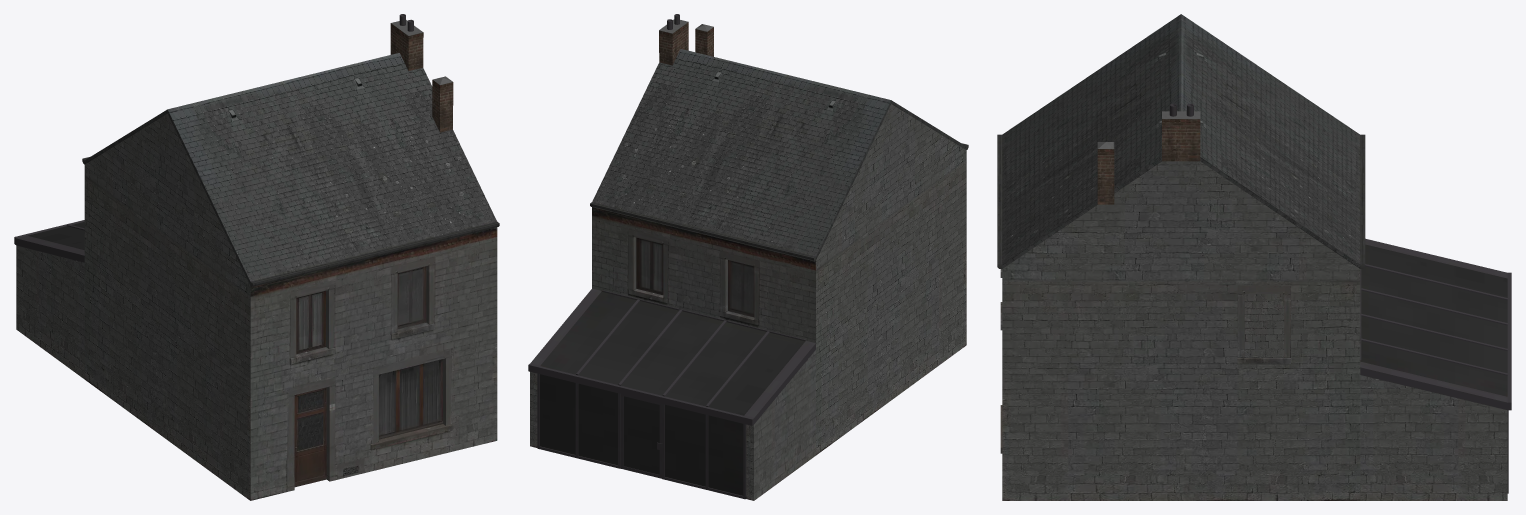
The model's file is romedenne.glb.
The picture shows the model from 3 angles, left to right: view 1: azimuth 30°, elevation 25°; view 2: azimuth 150°, elevation 25°; view 3: azimuth 270°, elevation 25°; orthographic projection. The views are drawn at different scales.
Parts seen in each view (by area): view 1: romedenne 1 updated_romedenne 1 update_0; view 2: romedenne 1 updated_romedenne 1 update_0; view 3: romedenne 1 updated_romedenne 1 update_0.
Part boxes in pixels (box(x1,y1,x2,y2)): romedenne 1 updated_romedenne 1 update_0: box(14, 14, 499, 500); romedenne 1 updated_romedenne 1 update_0: box(528, 14, 968, 500); romedenne 1 updated_romedenne 1 update_0: box(997, 14, 1511, 500).
Size of the model in its own units: 734 by 1027 by 1222.
Materials: 1 (1 with a texture image).
